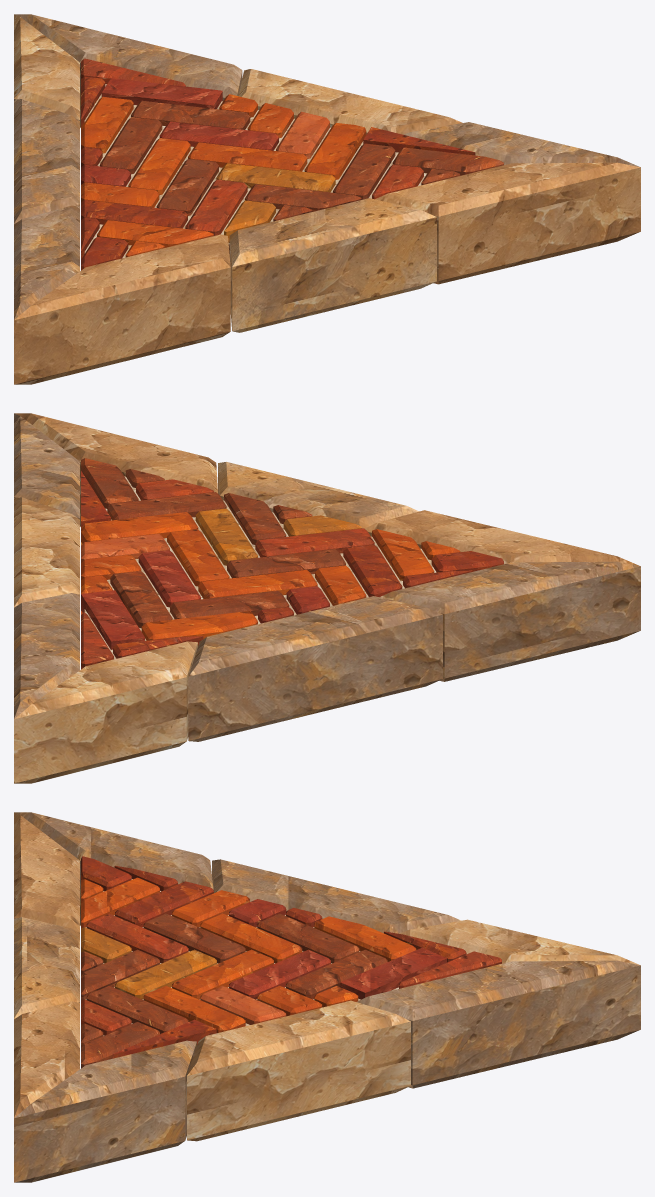
The model's file is floor_triangle__clay_brick.glb.
The picture shows the model from 3 angles, top to bottom: view 1: azimuth 30°, elevation 25°; view 2: azimuth 150°, elevation 25°; view 3: azimuth 270°, elevation 25°; orthographic projection.
Parts seen in each view (by area): view 1: model; view 2: model; view 3: model.
Boxes of the visible parts, x1=… form: model: x1=14, y1=14, x2=640, y2=384; model: x1=14, y1=413, x2=640, y2=783; model: x1=14, y1=812, x2=640, y2=1182.
Bounding box in the file's own units: 1.98 × 0.238 × 1.71.
15 materials, 15 textured.
